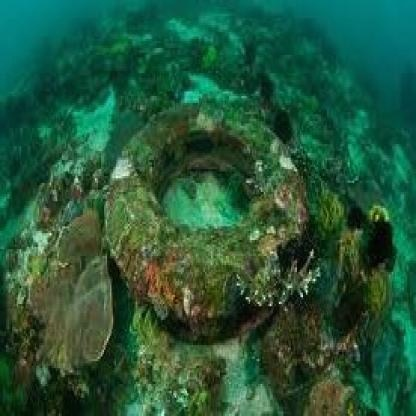tire: (108, 96, 310, 341)
